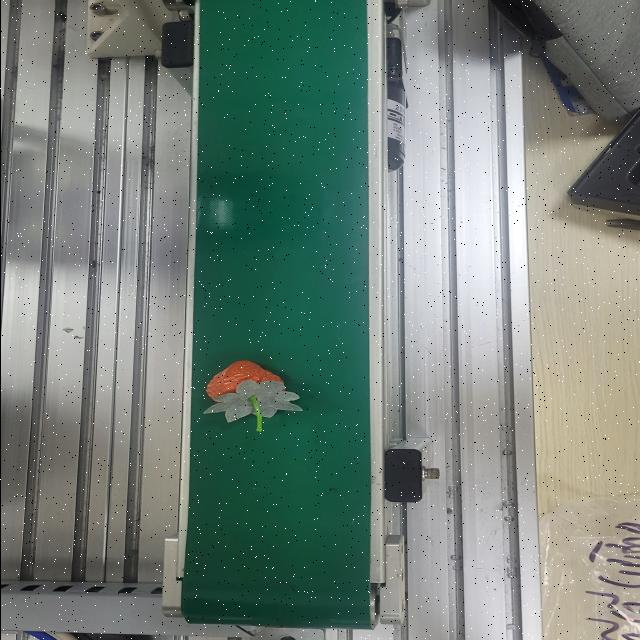Small Ripe Strawberry: (200, 358, 304, 432)
